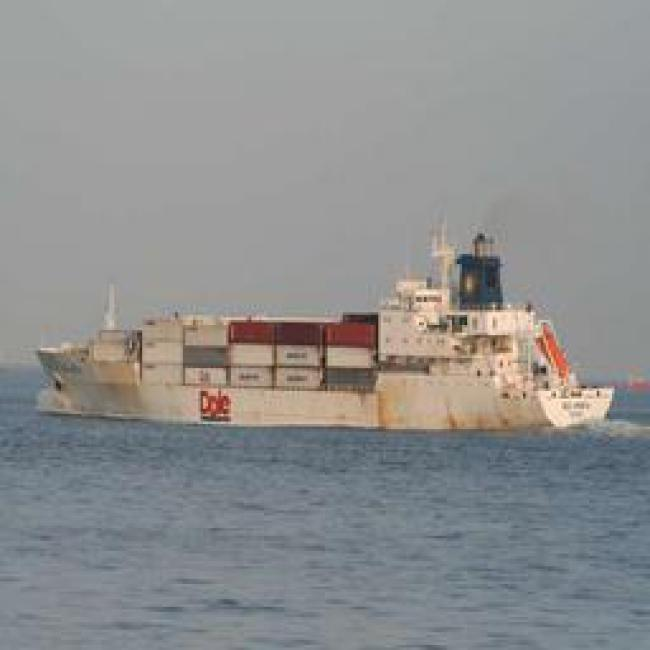Ship: (32, 302, 623, 444)
